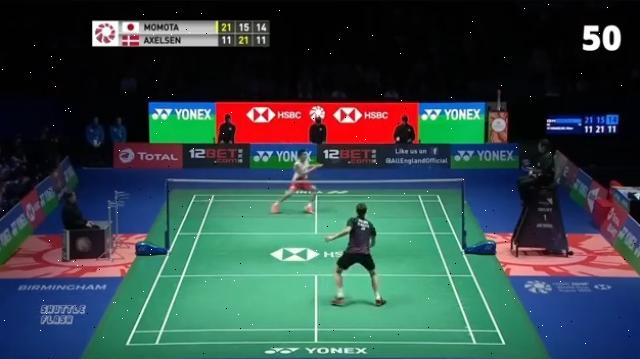Shuttlecock: (395, 136, 403, 146)
